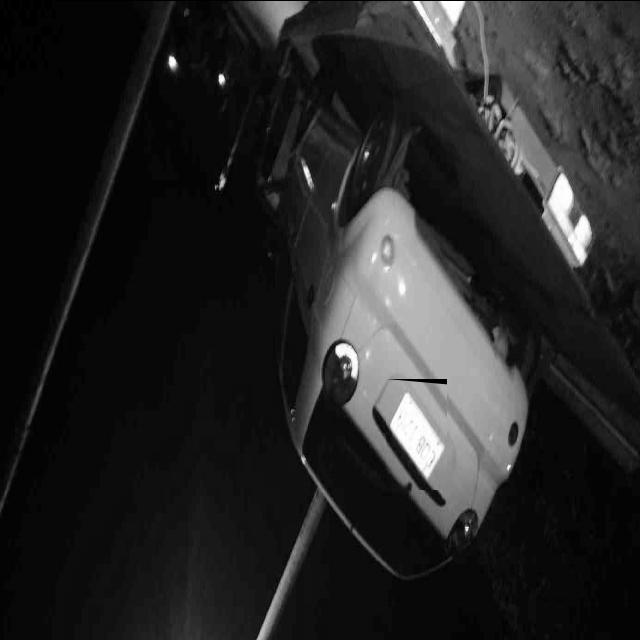plate: (387, 379, 447, 489)
